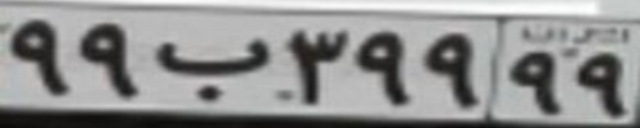3: (283, 27, 349, 106)
9: (7, 19, 68, 95), (423, 32, 481, 106), (81, 22, 137, 95), (357, 29, 407, 106), (575, 52, 629, 116), (508, 51, 559, 114)
be: (156, 37, 269, 102)
